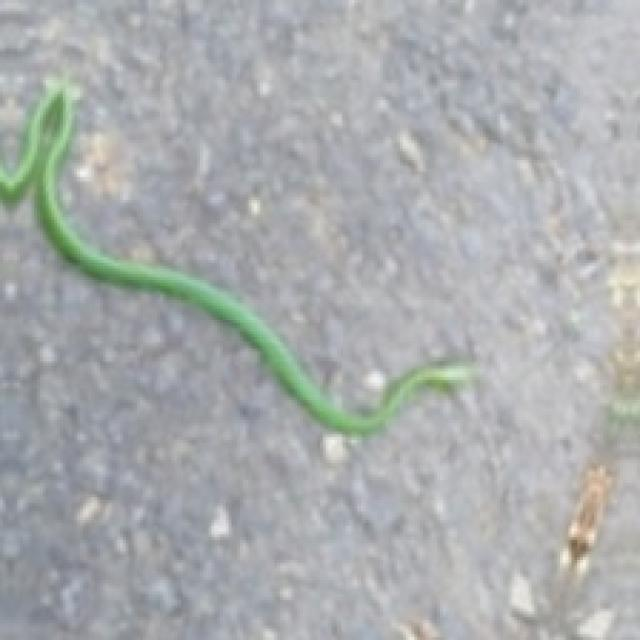red-tailed green ratsnake: (0, 83, 474, 434)
